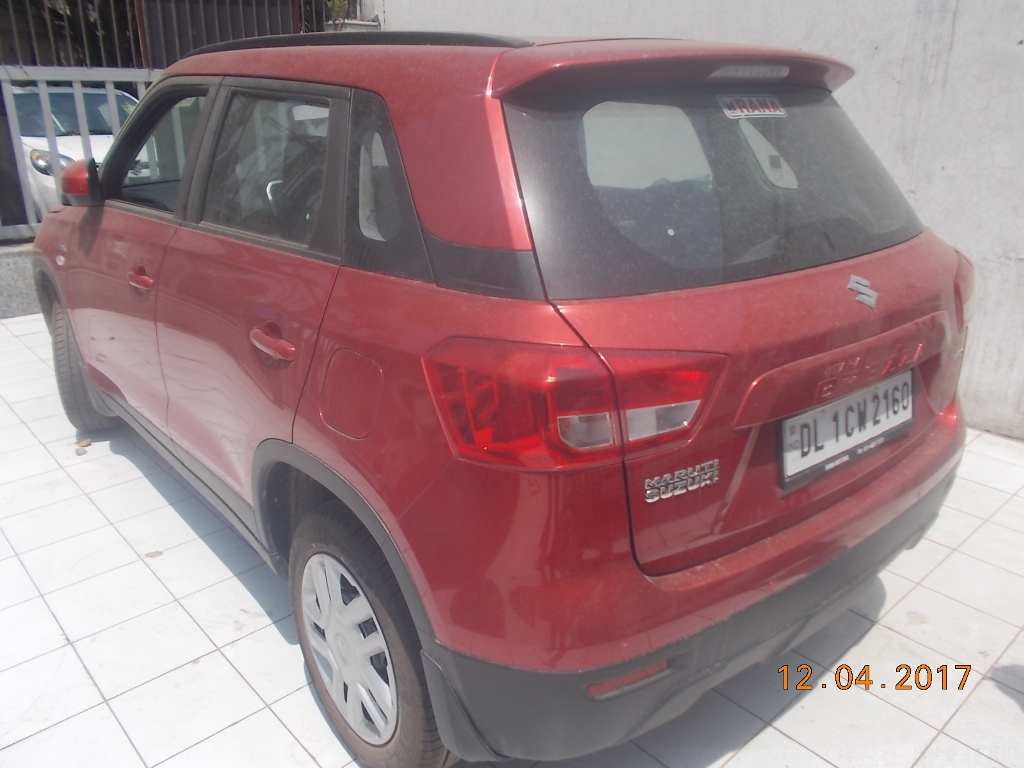Scratch_or_spot: (225, 330, 430, 481)
